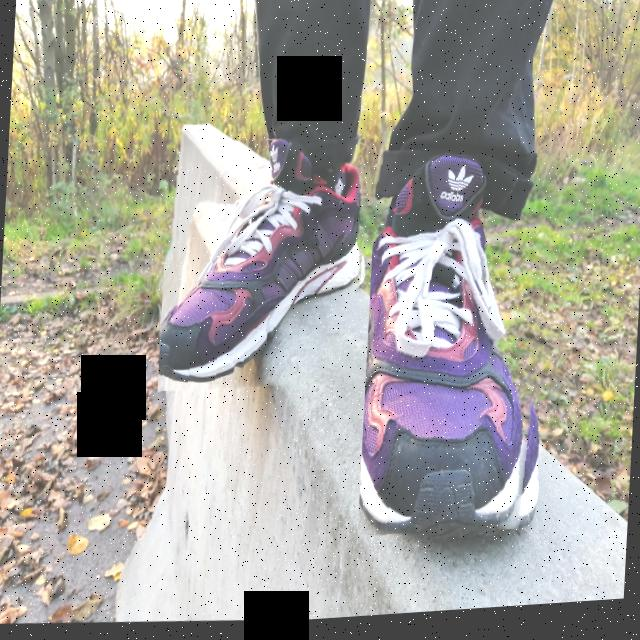shoe: (358, 152, 560, 551), (158, 133, 374, 405)
